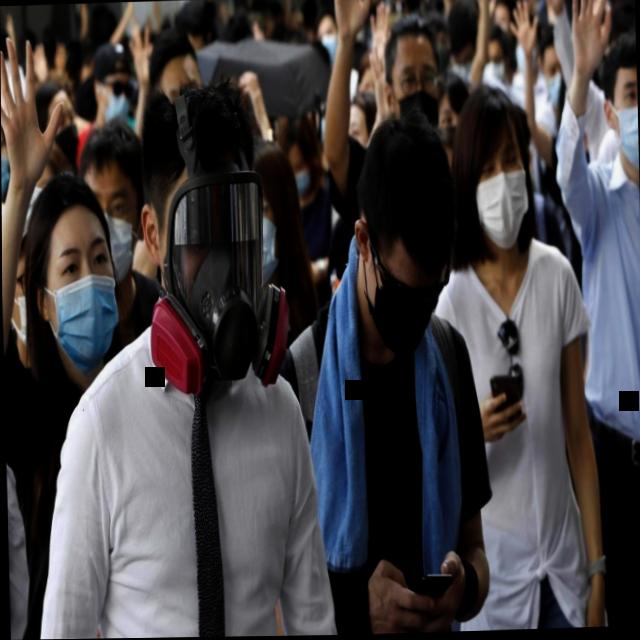Mask: (140, 88, 301, 403), (348, 110, 463, 375), (18, 172, 132, 386), (450, 86, 544, 262), (73, 116, 148, 294), (375, 14, 447, 130), (591, 29, 639, 182), (268, 100, 327, 210), (87, 34, 136, 126), (533, 28, 580, 116), (473, 27, 514, 93), (1, 98, 19, 206), (313, 8, 345, 65)
